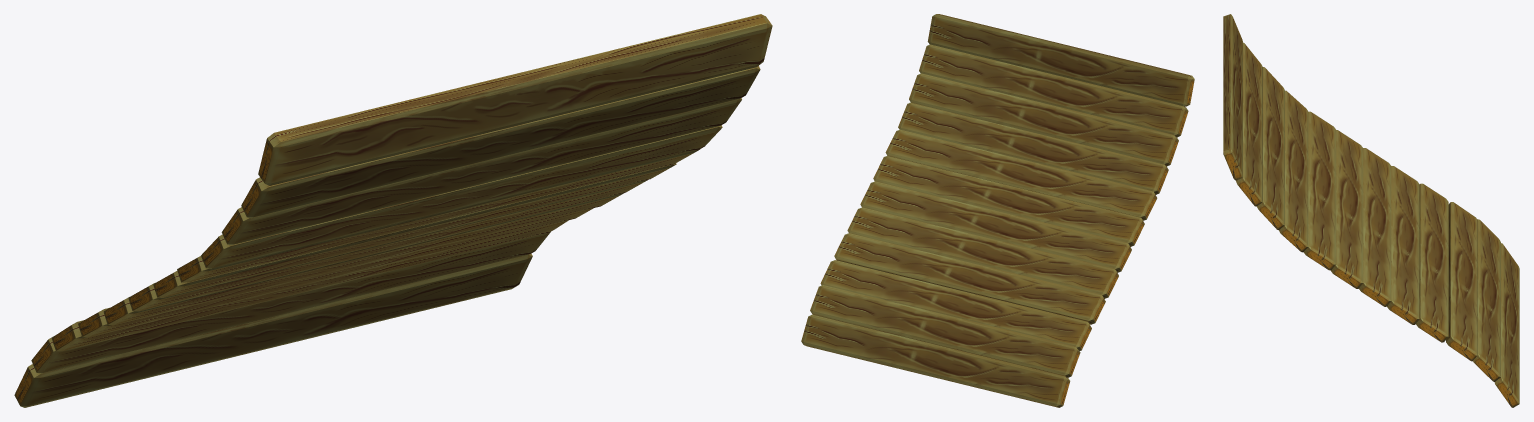
The model's file is BaseRoof.fbx.
The picture shows the model from 3 angles, left to right: view 1: azimuth 30°, elevation 25°; view 2: azimuth 150°, elevation 25°; view 3: azimuth 270°, elevation 25°; orthographic projection. The views are drawn at different scales.
Parts seen in each view (by area): view 1: WallWoodV.169; view 2: WallWoodV.169; view 3: WallWoodV.169.
Boxes of the visible parts, box(x1,y1,x2,y2) form: WallWoodV.169: box(14, 14, 772, 407); WallWoodV.169: box(801, 14, 1194, 407); WallWoodV.169: box(1223, 14, 1519, 407).
Bounding box in the file's own units: 2.66 × 2.33 × 2.42.
